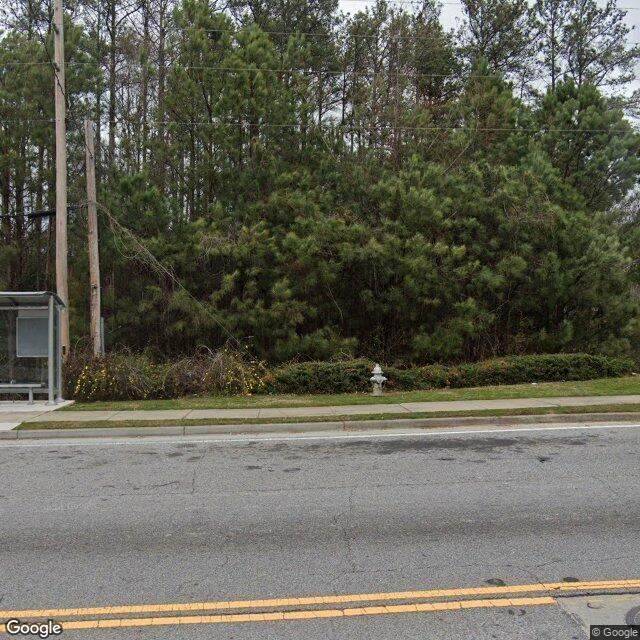seating: (0, 382, 44, 404)
shelter: (0, 290, 66, 411)
